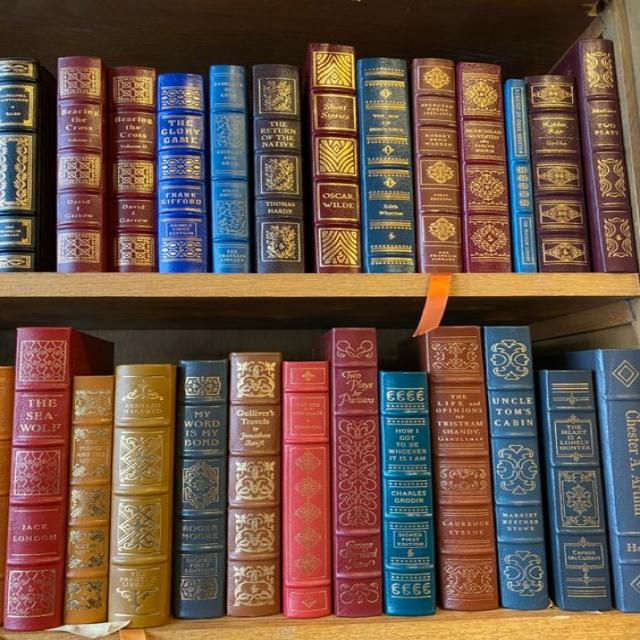book: (425, 327, 500, 609), (3, 325, 72, 630), (486, 327, 550, 606), (108, 363, 174, 625), (546, 369, 612, 610), (226, 352, 282, 617), (334, 329, 382, 617), (580, 39, 639, 272), (175, 358, 227, 618), (62, 374, 115, 623), (358, 58, 417, 272), (527, 75, 590, 272), (382, 371, 432, 616), (310, 41, 362, 272), (284, 362, 331, 616), (457, 61, 512, 272), (413, 57, 464, 273), (56, 56, 106, 272), (600, 350, 640, 612), (158, 75, 209, 272), (108, 67, 157, 272), (257, 66, 301, 273), (210, 64, 253, 274), (0, 59, 34, 271), (504, 79, 539, 272)
